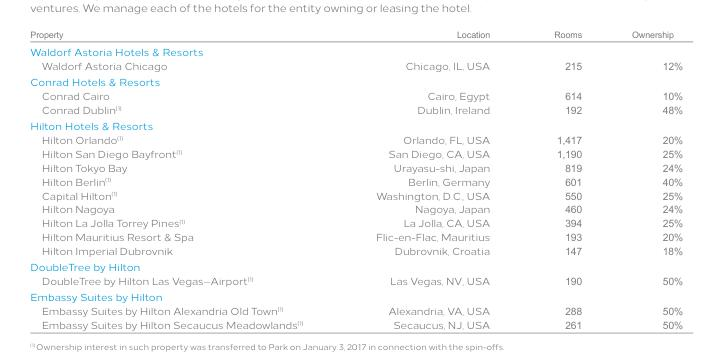table: (29, 28, 682, 330)
table column: (29, 28, 338, 330), (338, 28, 521, 330), (521, 28, 606, 330), (606, 28, 682, 330)
table column header: (29, 28, 682, 41)
table projected row header: (29, 41, 682, 57), (29, 72, 682, 87), (29, 116, 682, 131), (29, 257, 682, 272), (29, 287, 682, 302)
table row: (29, 41, 682, 57), (29, 57, 682, 72), (29, 72, 682, 87), (29, 101, 682, 116), (29, 116, 682, 131), (29, 242, 682, 257), (29, 257, 682, 272), (29, 272, 682, 287), (29, 287, 682, 302), (29, 87, 682, 101), (29, 131, 682, 145), (29, 145, 682, 159), (29, 159, 682, 173), (29, 173, 682, 187), (29, 187, 682, 201), (29, 214, 682, 228), (29, 228, 682, 242), (29, 302, 682, 316), (29, 316, 682, 330), (29, 28, 682, 41), (29, 201, 682, 214)
